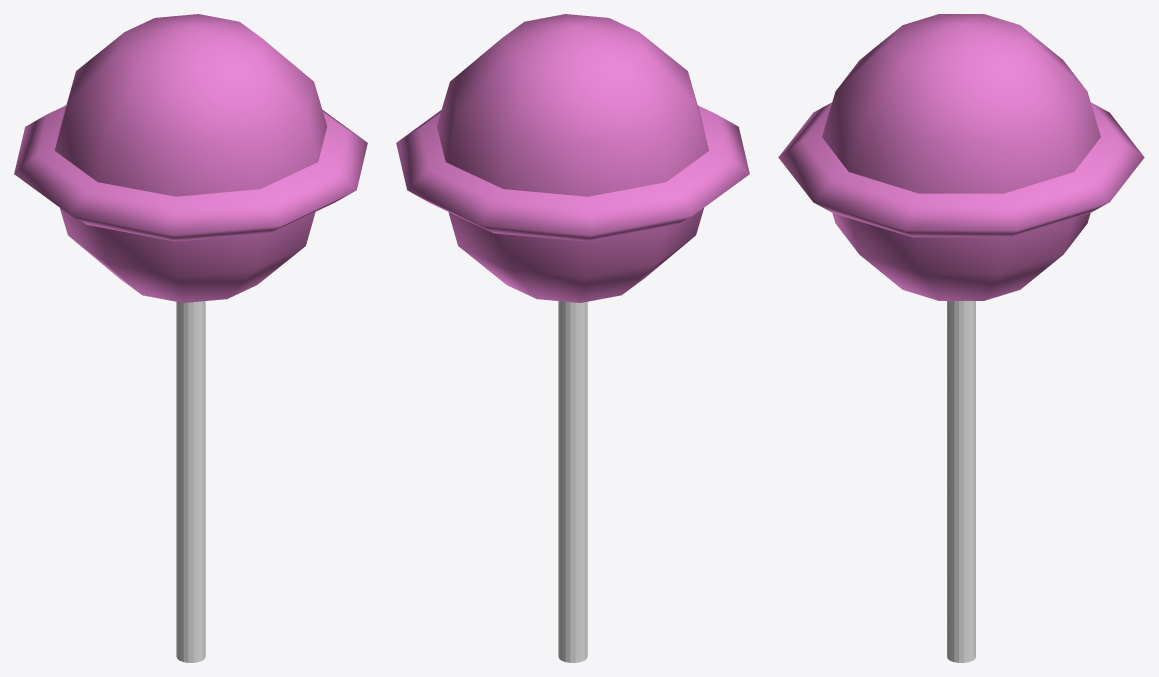
Rendered from ExportedBlenderFBXFile.fbx.
3 views of the same model, side by side, from view 1: azimuth 30°, elevation 25°; view 2: azimuth 150°, elevation 25°; view 3: azimuth 270°, elevation 25° (orthographic).
Visible parts, largest first — view 1: Cylinder; view 2: Cylinder; view 3: Cylinder.
Boxes of the visible parts, x1=… form: Cylinder: x1=14, y1=14, x2=367, y2=662; Cylinder: x1=396, y1=14, x2=749, y2=662; Cylinder: x1=778, y1=14, x2=1144, y2=662.
Bounding box in the file's own units: 2.36 × 4.79 × 2.52.
